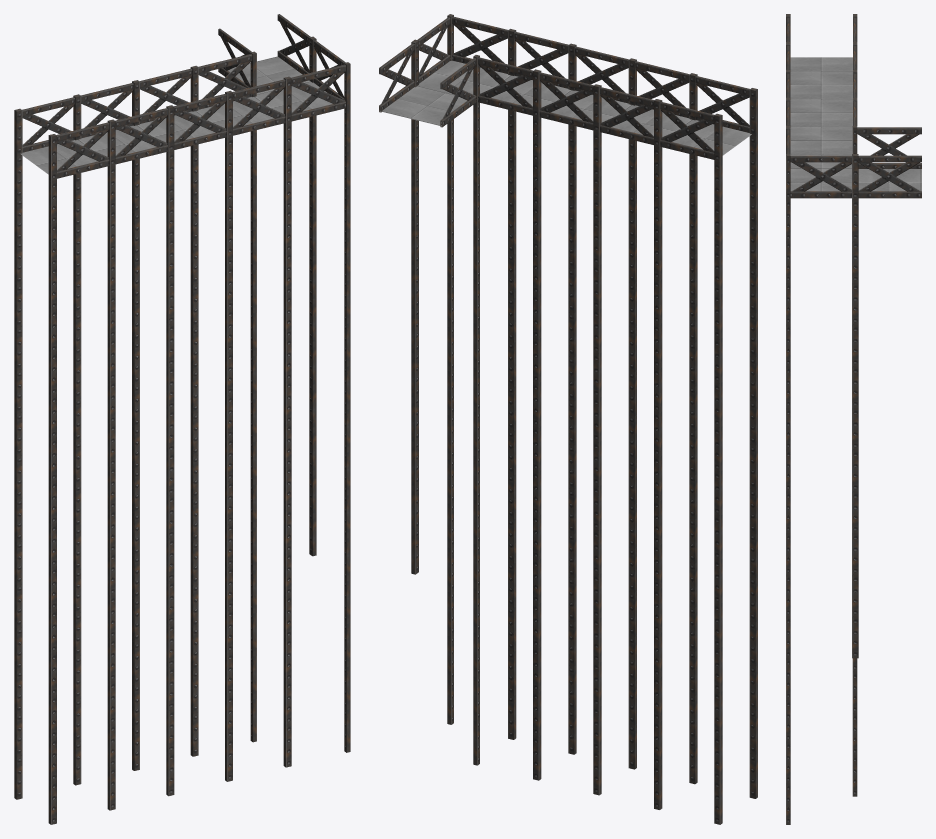
Rendered from Catwalk_LShape_Long_Left.fbx.
The picture shows the model from 3 angles, left to right: view 1: azimuth 30°, elevation 25°; view 2: azimuth 150°, elevation 25°; view 3: azimuth 270°, elevation 25°; orthographic projection. The views are drawn at different scales.
Visible parts, largest first — view 1: Catwalk_LPiece_Left; view 2: Catwalk_LPiece_Left; view 3: Catwalk_LPiece_Left.
Boxes of the visible parts, x1,y1,x2,y2 form: Catwalk_LPiece_Left: [14, 14, 350, 824]; Catwalk_LPiece_Left: [379, 14, 757, 824]; Catwalk_LPiece_Left: [786, 14, 921, 824].
Size of what is drawn, in the model's own units: 2324 by 5105 by 939.
